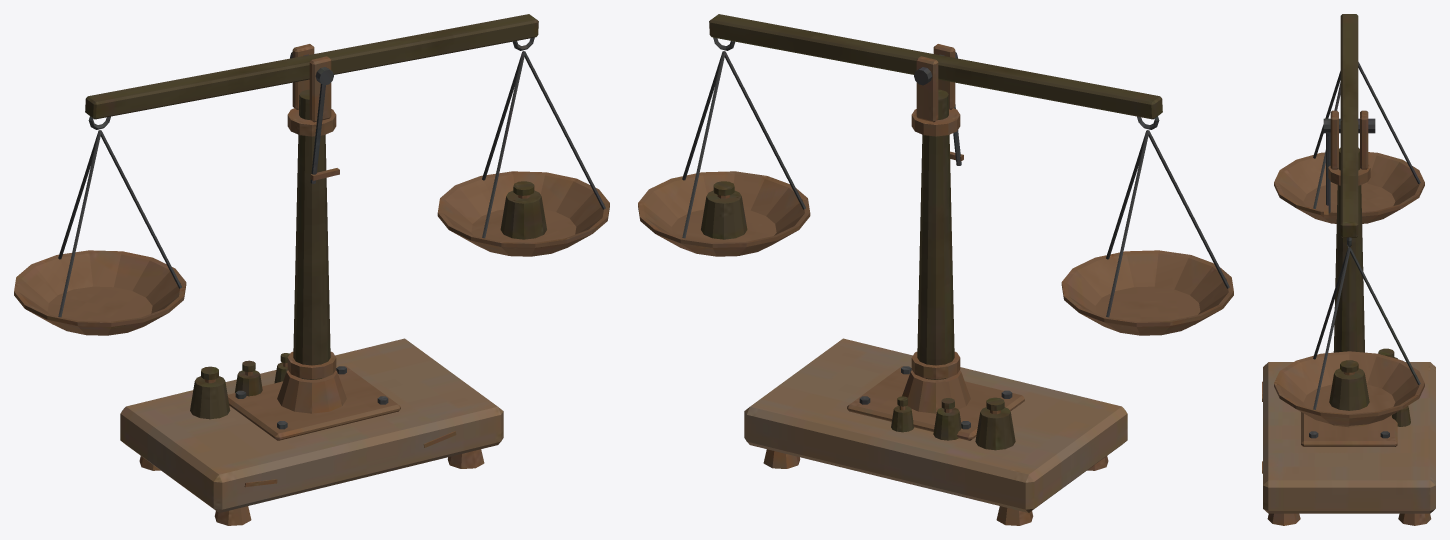
File: W17_old_weighing_scale.glb
3 views of the same model, side by side, from view 1: azimuth 30°, elevation 25°; view 2: azimuth 150°, elevation 25°; view 3: azimuth 270°, elevation 25° (orthographic). The views are drawn at different scales.
Visible parts, largest first — view 1: Cast iron foot; view 2: Cast iron foot; view 3: Cast iron foot.
Boxes of the visible parts, x1=… form: Cast iron foot: x1=14, y1=14, x2=609, y2=525; Cast iron foot: x1=638, y1=14, x2=1233, y2=525; Cast iron foot: x1=1262, y1=14, x2=1435, y2=525.
Bounding box in the file's own units: 0.6 × 0.4162 × 0.1812.
4 materials, 4 textured.
